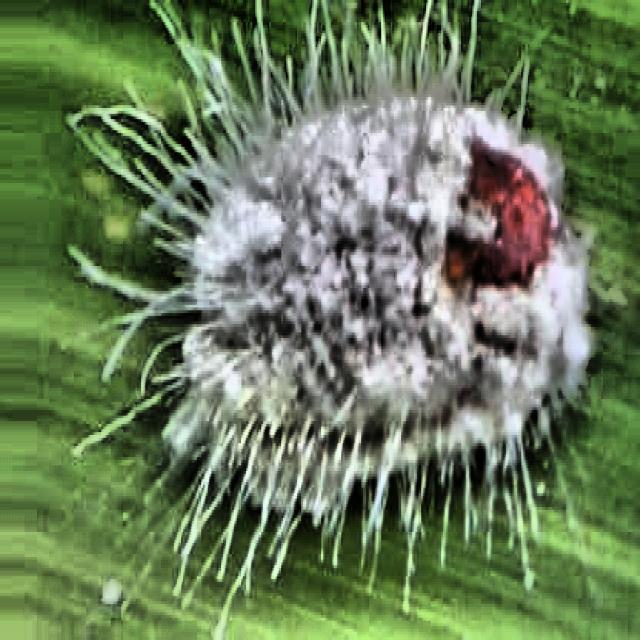Mealy-bug: (86, 4, 614, 629)
